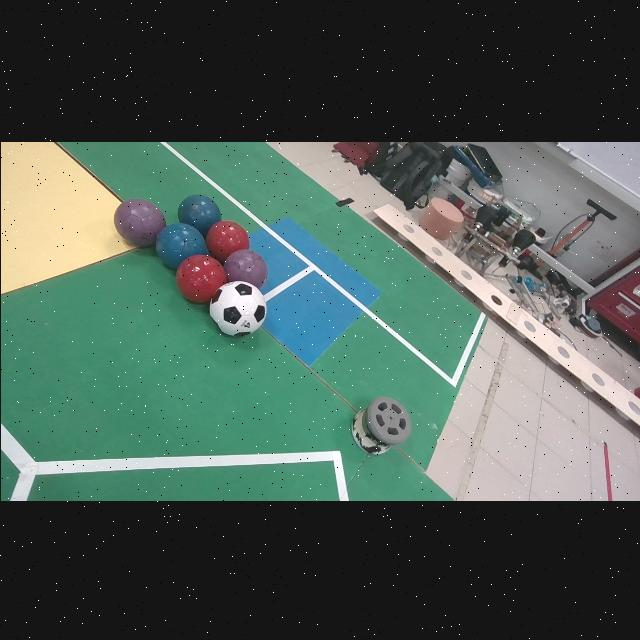B: (155, 221, 206, 267), (178, 193, 220, 235)
P: (113, 196, 165, 244), (222, 247, 267, 287)
R: (175, 253, 226, 300), (204, 218, 249, 261)
